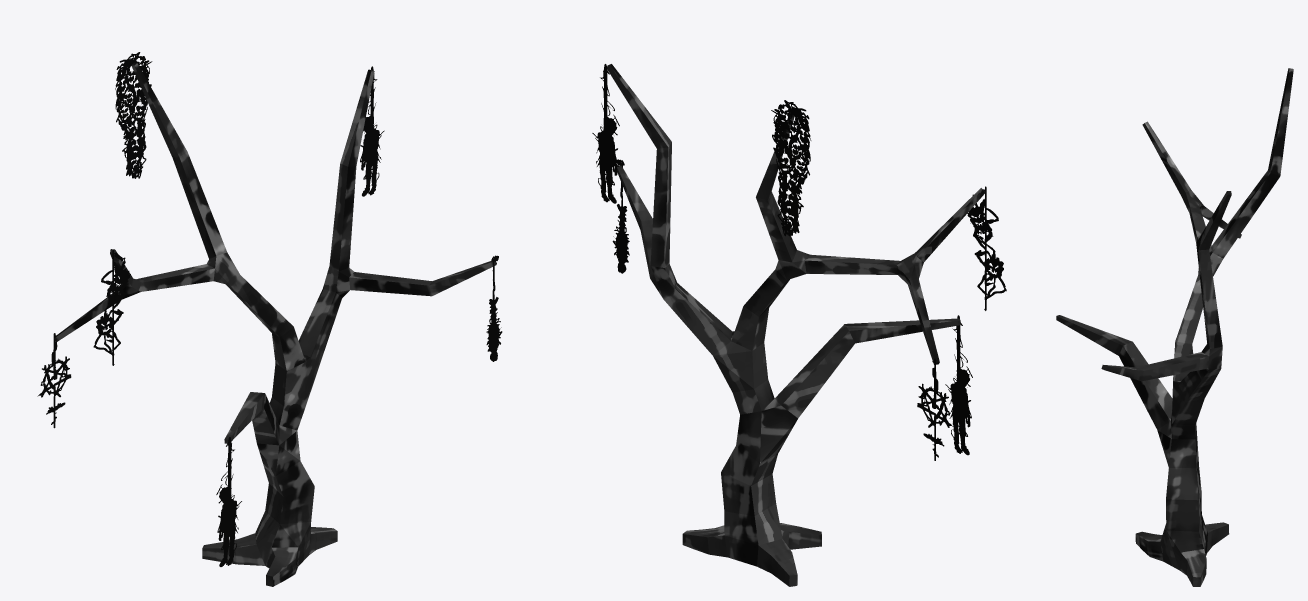
Rendered from tree2.fbx.
The picture shows the model from 3 angles, left to right: view 1: azimuth 30°, elevation 25°; view 2: azimuth 150°, elevation 25°; view 3: azimuth 270°, elevation 25°; orthographic projection. The views are drawn at different scales.
Visible parts, largest first — view 1: Tree2; view 2: Tree2; view 3: Tree2.
Boxes of the visible parts, x1,y1,x2,y2 form: Tree2: (37, 52, 502, 586); Tree2: (592, 64, 1006, 586); Tree2: (1056, 68, 1293, 586).
Size of the model in its own units: 1106 by 1219 by 541.
